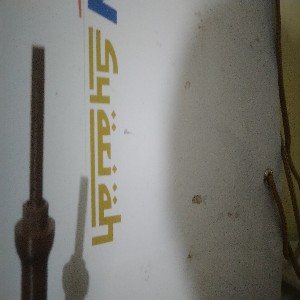obeng: (14, 45, 56, 300)
